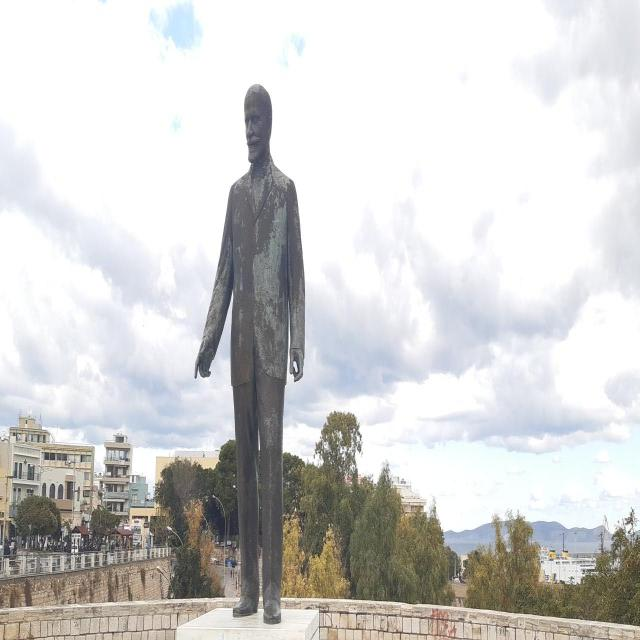Venizelos: (195, 84, 305, 624)
